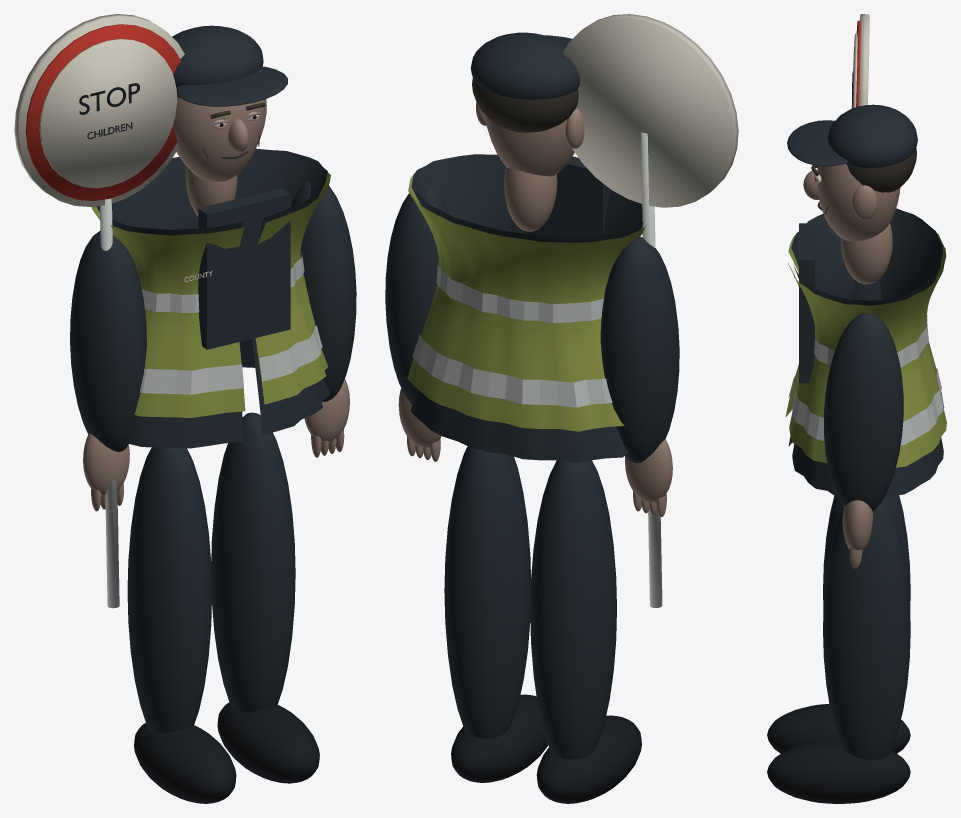
File: crossing-guard.glb
3 views of the same model, side by side, from view 1: azimuth 30°, elevation 25°; view 2: azimuth 150°, elevation 25°; view 3: azimuth 270°, elevation 25° (orthographic). The views are drawn at different scales.
Visible parts, largest first — view 1: Trouser.001, Trouser, High visibility vest, Stop sign face, Waterproof jacket, Sleeve, Shirt, Sleeve.001, Boot.001, Boot, Red stop border, Face (+9 smaller); view 2: High visibility vest, Stop sign, Trouser, Trouser.001, Waterproof jacket, Sleeve, Sleeve.001, Rain cap, Boot, Sewn reflective tape, Boot.001, Shirt (+7 smaller); view 3: Trouser.001, Sleeve.001, High visibility vest, Waterproof jacket, Boot.001, Rain cap, Face, Boot, Shirt, Neck, Sewn reflective tape, Cap peak (+7 smaller).
Part boxes in pixels (x1,y1,x2,y2): Trouser.001: [211, 412, 295, 712]; Trouser: [127, 447, 211, 733]; High visibility vest: [91, 166, 330, 417]; Stop sign face: [39, 39, 177, 188]; Waterproof jacket: [96, 148, 329, 448]; Sleeve: [70, 231, 146, 451]; Shirt: [198, 188, 290, 349]; Sleeve.001: [290, 181, 356, 401]; Boot.001: [217, 702, 319, 783]; Boot: [134, 723, 236, 803]; Red stop border: [25, 24, 180, 200]; Face: [173, 97, 266, 181]; High visibility vest: [407, 173, 645, 431]; Stop sign: [563, 14, 738, 207]; Trouser: [530, 460, 616, 759]; Trouser.001: [444, 446, 530, 738]; Waterproof jacket: [410, 154, 643, 462]; Sleeve: [600, 237, 679, 463]; Sleeve.001: [385, 188, 450, 404]; Rain cap: [470, 32, 580, 99]; Boot: [536, 715, 641, 803]; Sewn reflective tape: [412, 334, 612, 407]; Boot.001: [451, 694, 548, 782]; Shirt: [524, 156, 610, 237]; Trouser.001: [823, 498, 910, 760]; Sleeve.001: [824, 313, 903, 511]; High visibility vest: [785, 232, 946, 467]; Waterproof jacket: [788, 208, 943, 497]; Boot.001: [767, 740, 910, 803]; Rain cap: [827, 104, 917, 168]; Face: [817, 164, 900, 241]; Boot: [767, 704, 910, 753]; Shirt: [799, 223, 814, 383]; Neck: [841, 223, 892, 284]; Sewn reflective tape: [788, 368, 943, 445]; Cap peak: [787, 120, 848, 166].
Bounding box in the file's own units: 0.88 × 1.96 × 0.4507.
